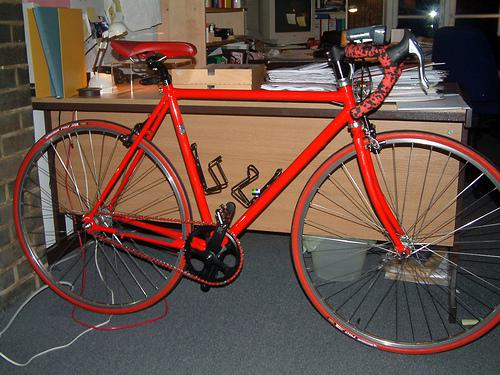car: (12, 30, 500, 356)
